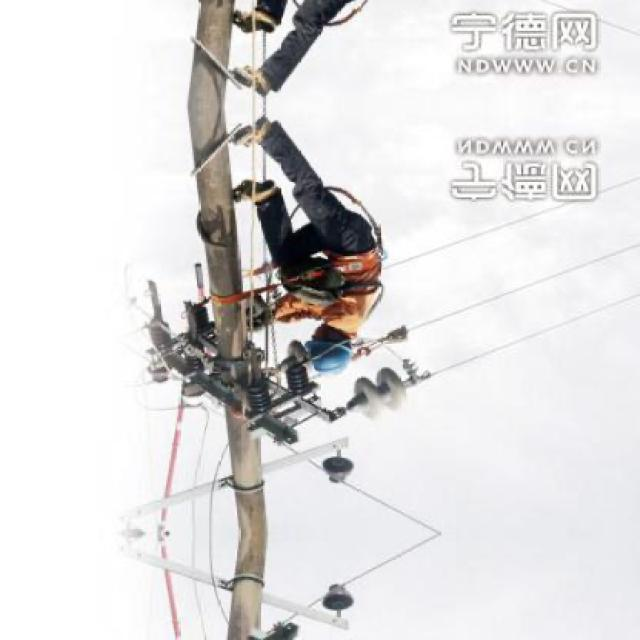con casco: (266, 322, 357, 395)
